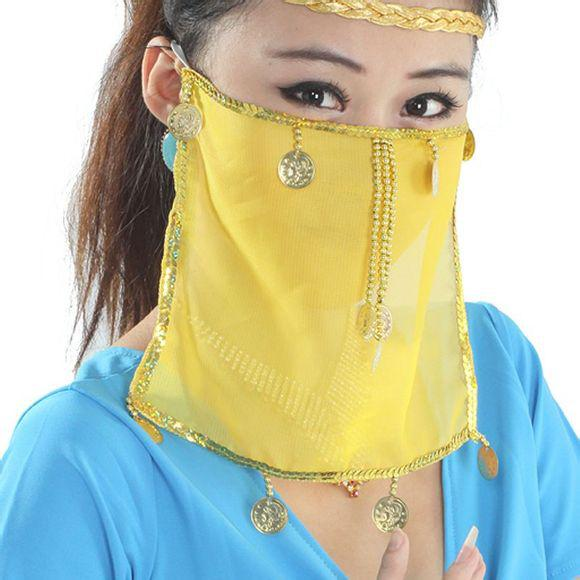OK: (189, 30, 480, 303)
